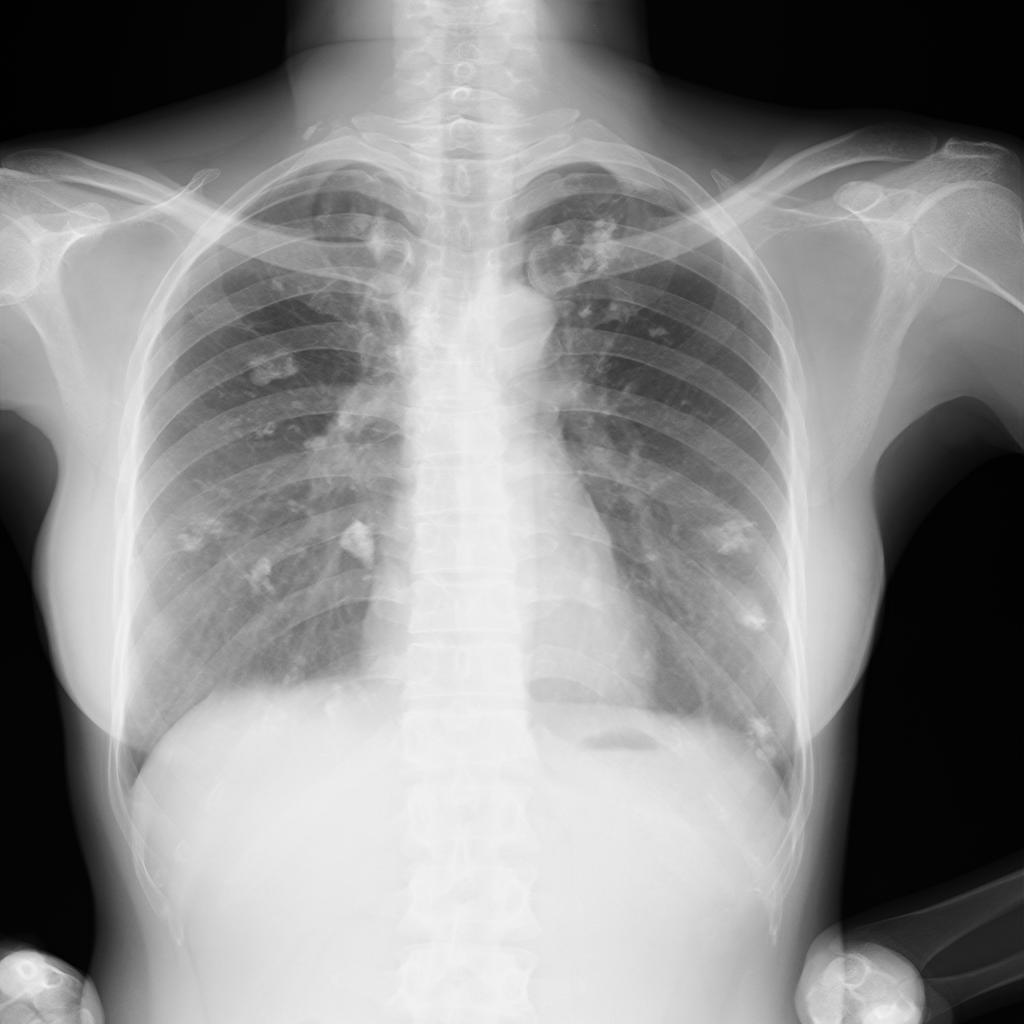Nodule: (215, 411, 332, 454), (710, 567, 771, 630), (166, 509, 231, 551), (700, 519, 763, 556), (249, 344, 299, 390), (334, 522, 379, 572), (246, 556, 278, 599), (574, 305, 596, 319), (648, 327, 670, 339)
